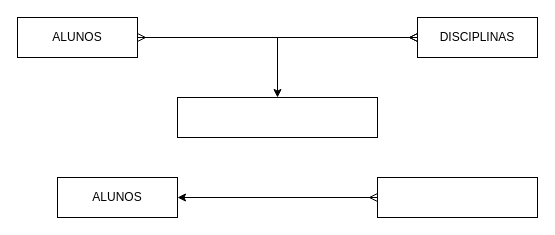
The diagram is 555 pixels wide and 235 high, and some of its shapes have lost their labels. Each missing label, with the centre of its shape:
"ALUNOS/DISCIPLINAS" belongs at point 457,197.
"ALUNOS/DISCPLINAS" belongs at point 277,117.
